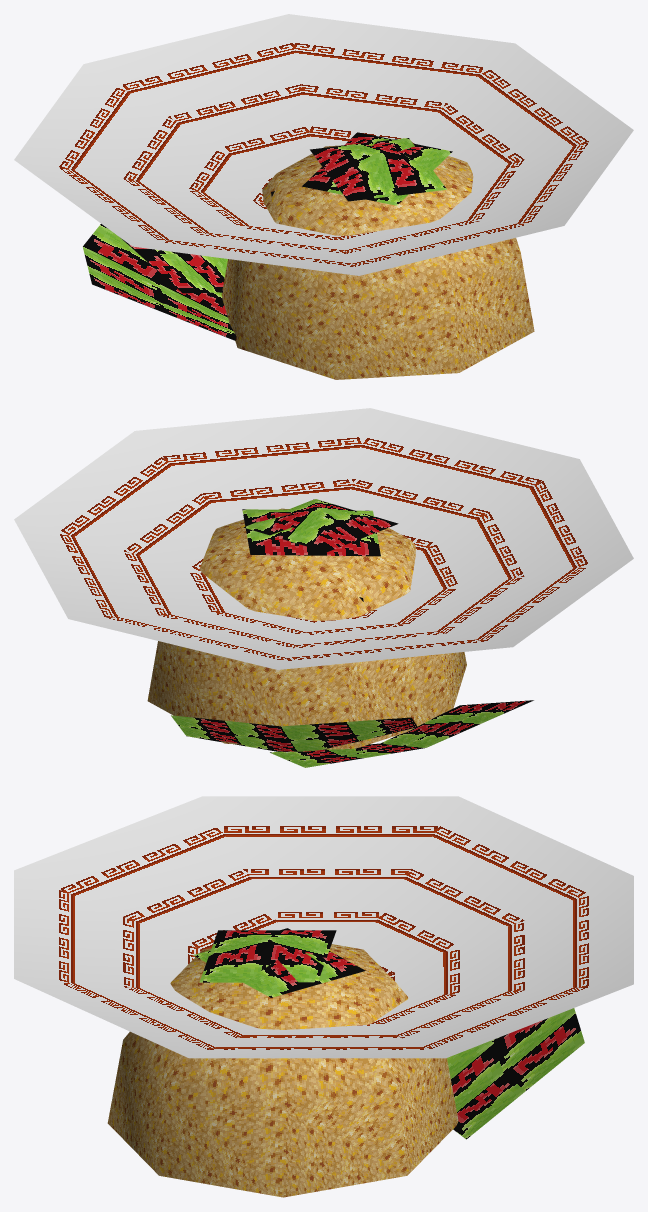
File: 5561u_cyhn00_ss.gltf
3 views of the same model, one above another, from view 1: azimuth 30°, elevation 25°; view 2: azimuth 150°, elevation 25°; view 3: azimuth 270°, elevation 25° (orthographic). The views are drawn at different scales.
Parts seen in each view (by area): view 1: 5561u_cyhn00_ss; view 2: 5561u_cyhn00_ss; view 3: 5561u_cyhn00_ss.
Part boxes in pixels (x1,y1,x2,y2): 5561u_cyhn00_ss: (14,14,633,379); 5561u_cyhn00_ss: (14,408,633,767); 5561u_cyhn00_ss: (14,796,633,1197).
Bounding box in the file's own units: 0.9194 × 0.3164 × 0.9194.
Materials: 5 (5 with a texture image).
